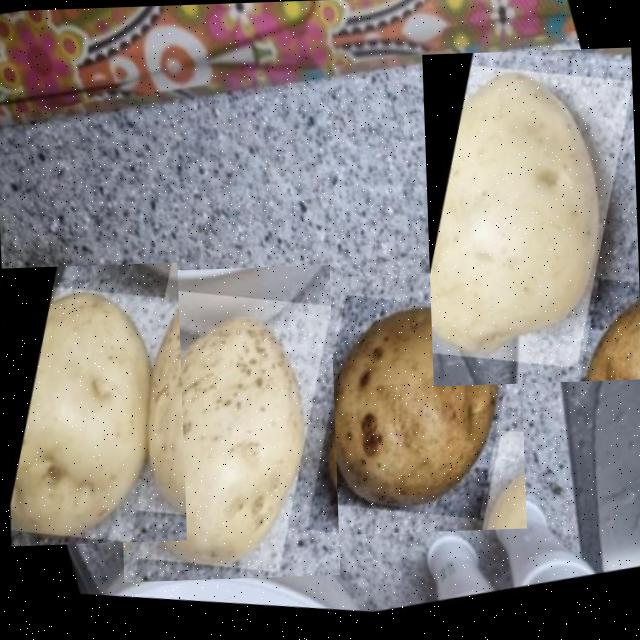Potato: (421, 47, 640, 386), (112, 265, 339, 582), (296, 270, 526, 536), (0, 262, 186, 546)
